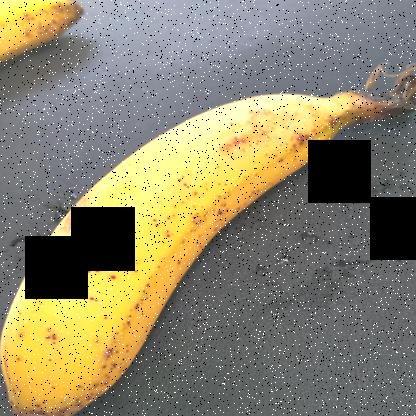ripe: (3, 74, 358, 414), (0, 0, 137, 103)
